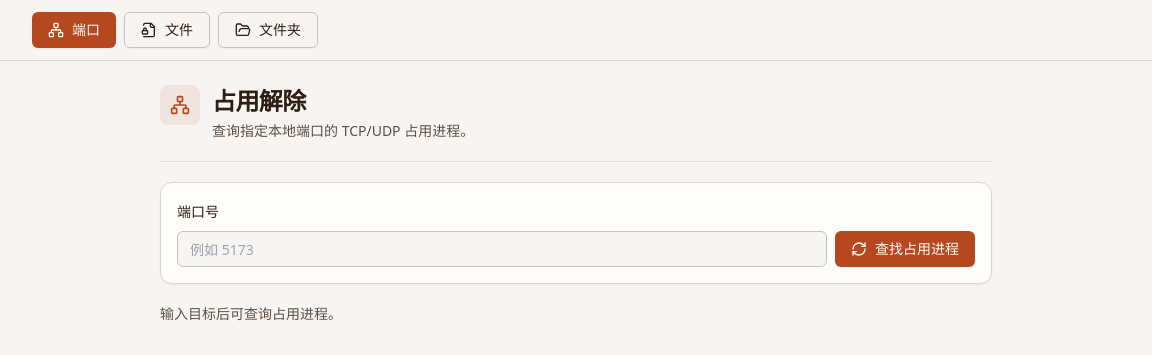
Test: Windows process tools › 拒绝无效端口 -1
This screenshot has width=1152, height=355.
Type "-1" into the field labelled "端口号" at (502, 249), box [177,231,827,267]
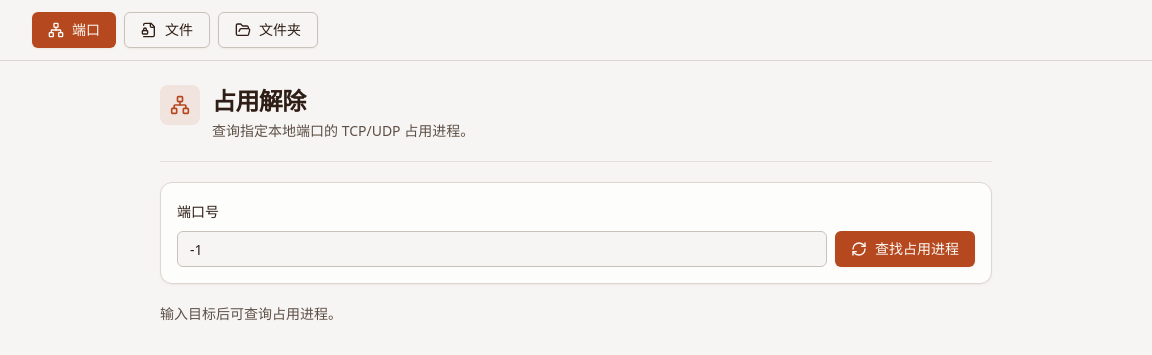
Click the button "查找占用进程" at (905, 249), box [835,231,975,267]
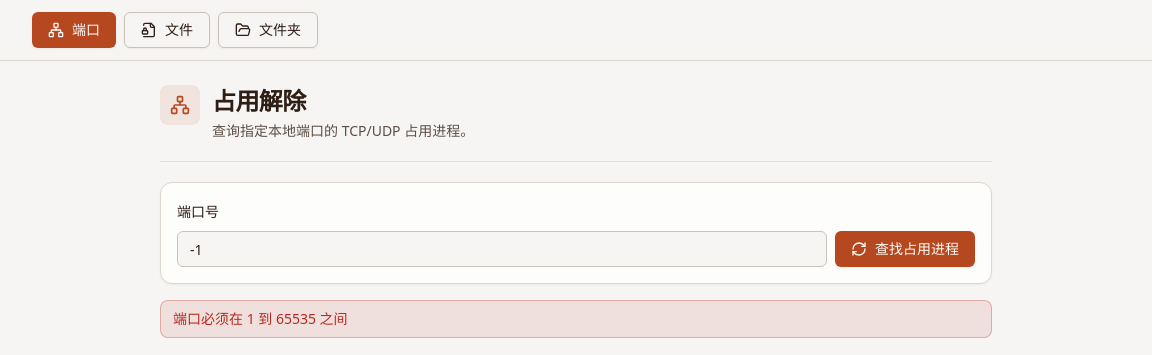
Result: the message reads "端口必须在 1 到 65535 之间" at [173,309,348,328]
